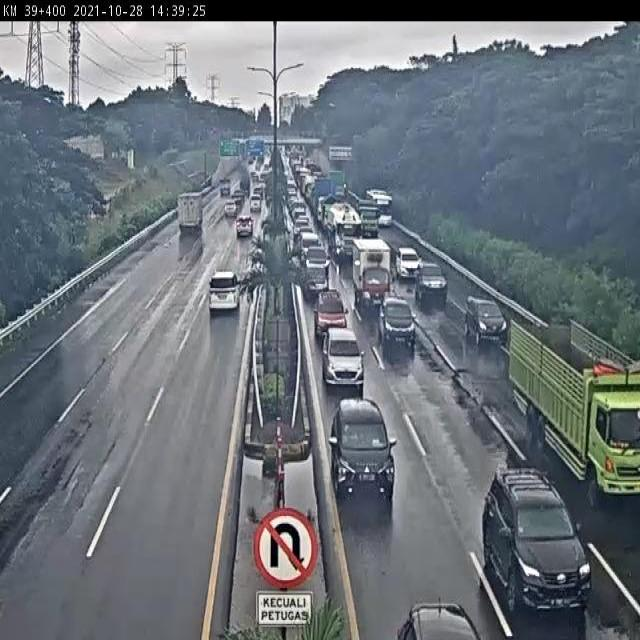big truck: (497, 316, 640, 509), (325, 199, 364, 261)
car: (486, 486, 600, 630), (326, 387, 399, 502), (384, 600, 487, 640), (318, 325, 369, 391), (458, 285, 505, 347), (374, 292, 419, 352), (205, 259, 244, 325), (308, 284, 352, 339), (413, 256, 450, 308), (395, 243, 422, 281), (232, 213, 258, 246), (246, 194, 264, 218), (218, 199, 238, 217)
small truck: (343, 234, 397, 314), (167, 190, 203, 246)
